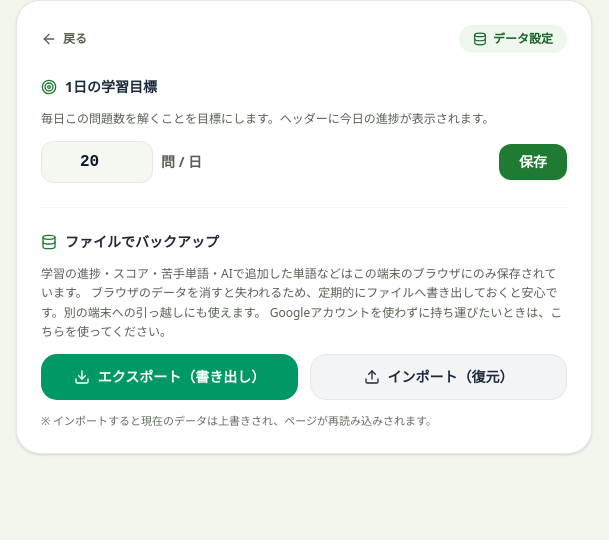
Test: 書き出し › 書き出したと伝える
Click the button "エクスポート（書き出し）" at (170, 376), box [41,354,298,400]
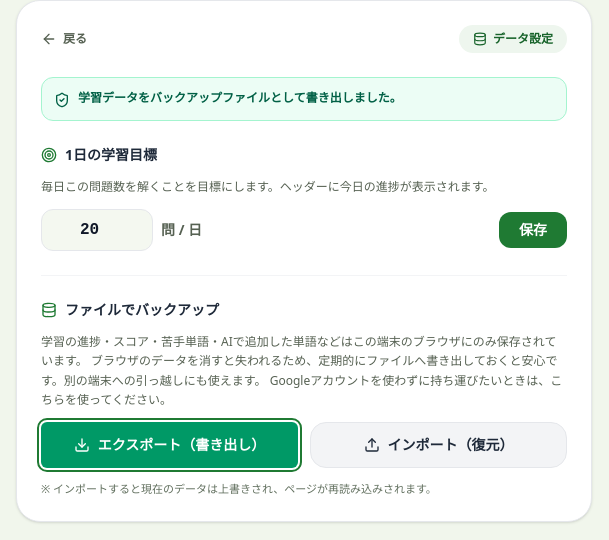
Expected: the text "学習データをバックアップファイルとして書き出しました。" is shown, [78,90,402,106]
